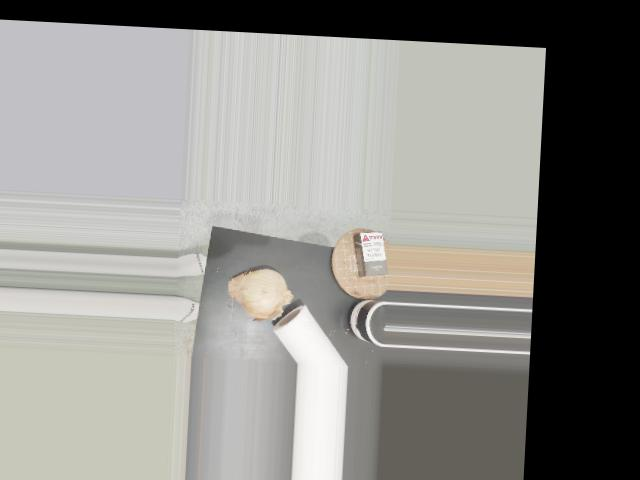onion: (229, 264, 293, 316)
